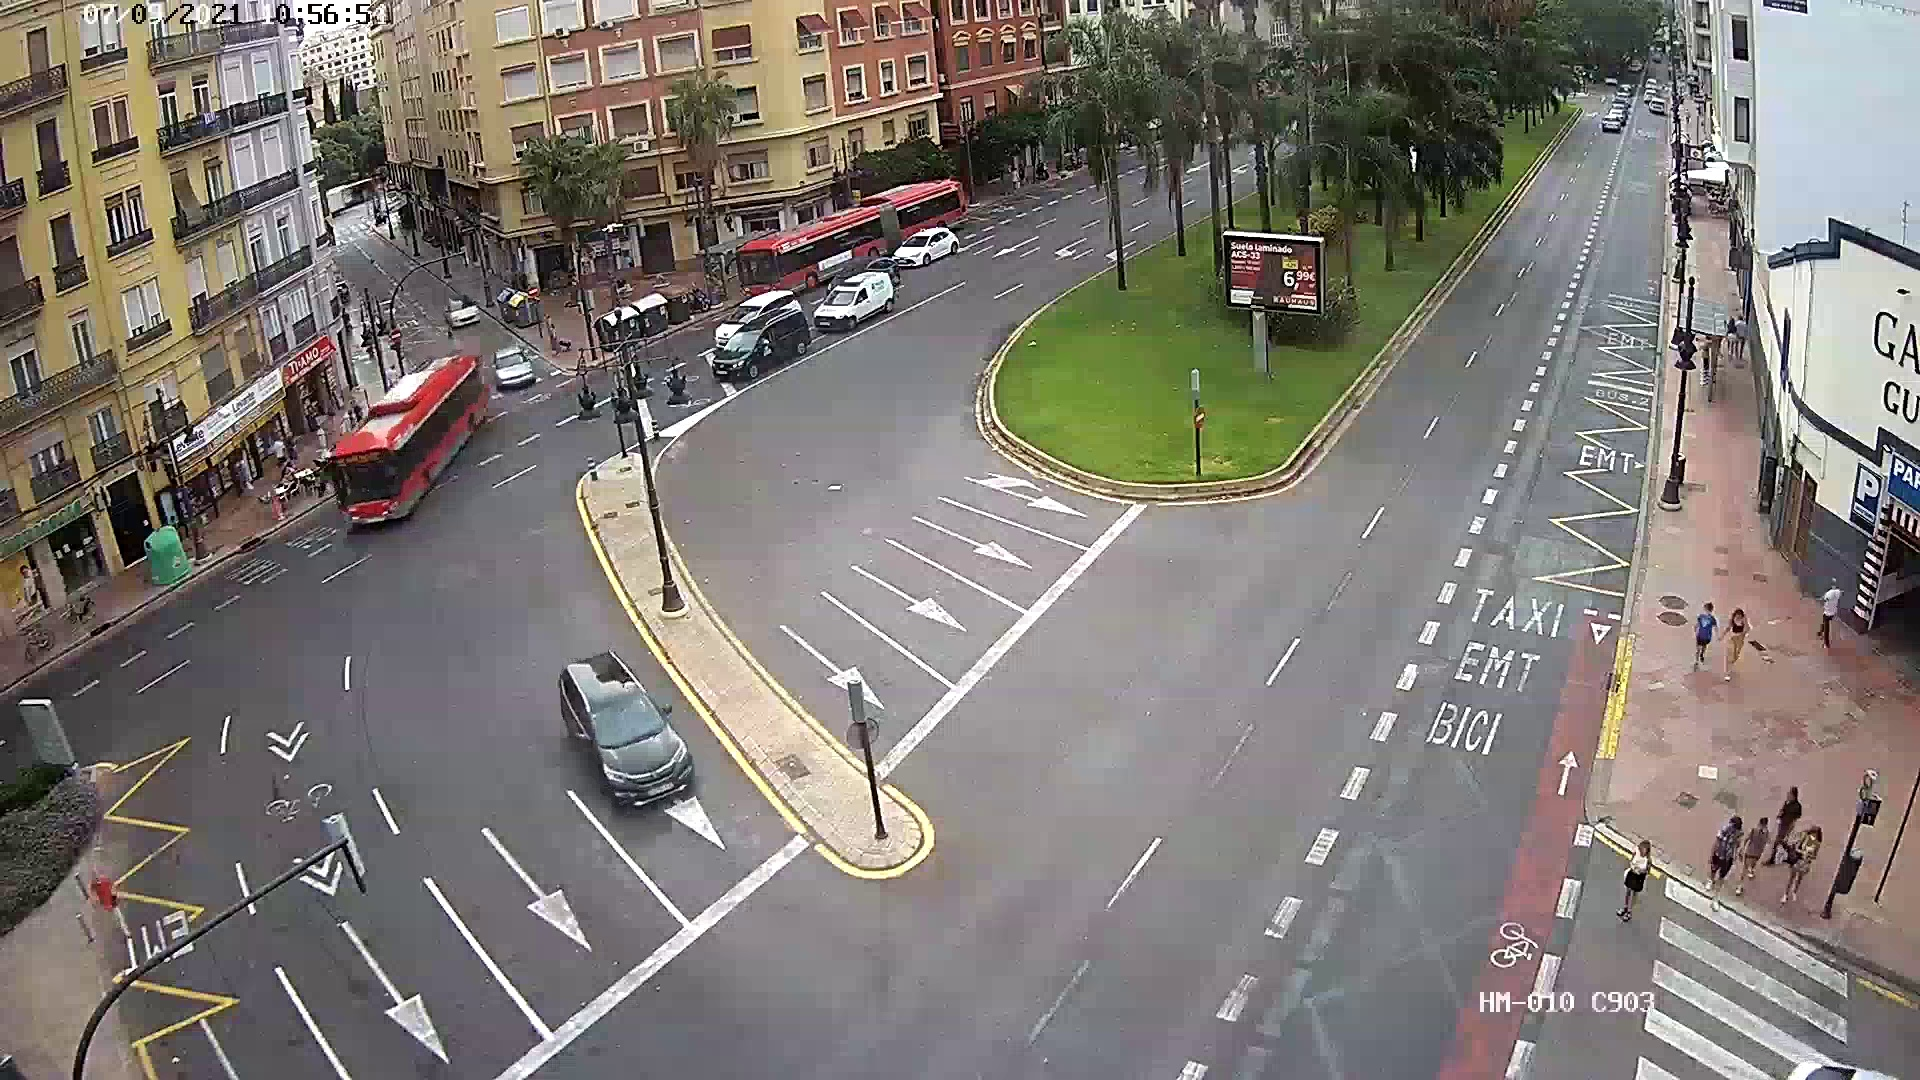Cars: (535, 649, 703, 800), (814, 273, 895, 339), (724, 322, 810, 376), (480, 338, 535, 389)
